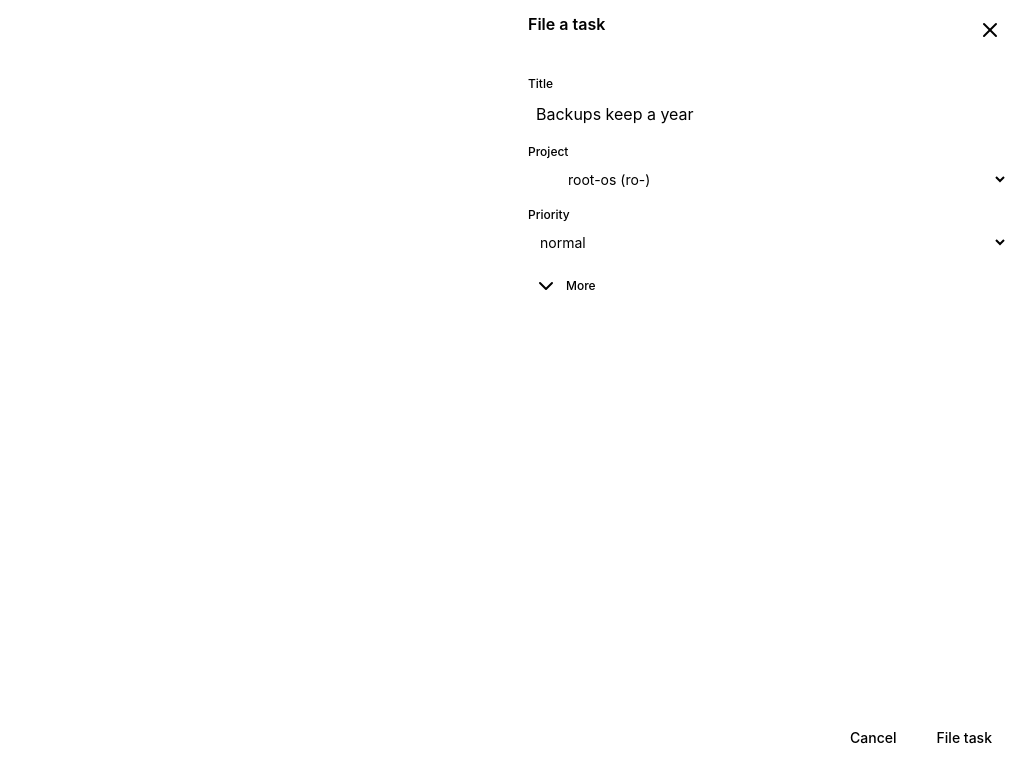
Test: the composer's new fields › draws each field with its label, the why section's caption and the empty score line
The width and height of the screenshot is (1024, 768).
What coordinates should you click on to do the following:
click the button "More"
I would click on:
 (565, 286)
Its box is [528,270,602,302].
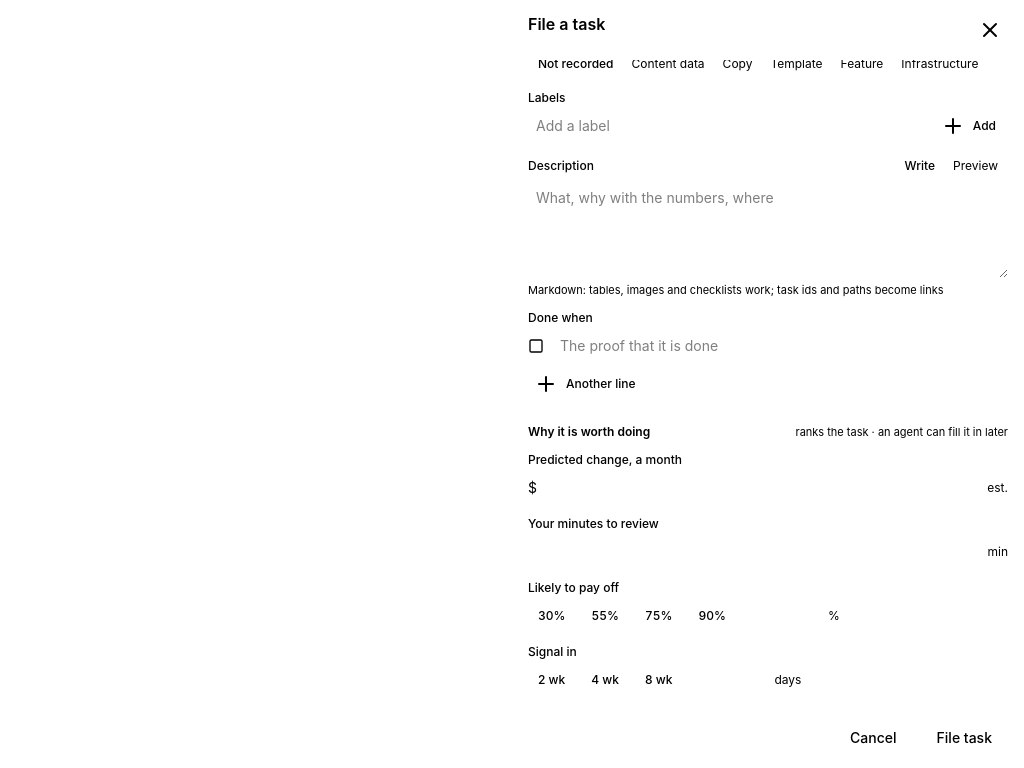
expect the buttons read "Not recorded", "Content data", "Copy", "Template", "Feature", "Infrastructure", in this order: met, box [530,60,622,76]; [624,60,713,76]; [715,60,760,76]; [762,60,830,76]; [833,60,891,76]; [893,60,986,76]
expect the text "ranks the task · an agent can fill it in later" is shown: met, box [796,424,1008,440]
expect the text "$" is shown: met, box [528,478,537,498]
